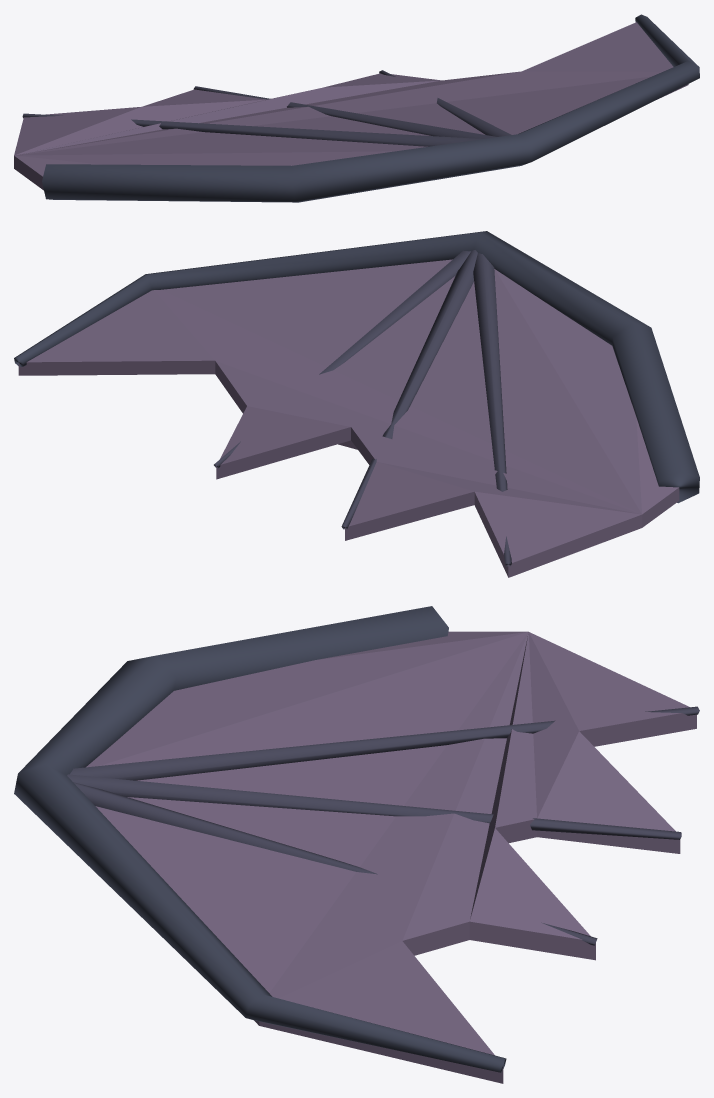
The model's file is bat_wing.glb.
3 renders of one model, top to bottom at view 1: azimuth 30°, elevation 25°; view 2: azimuth 150°, elevation 25°; view 3: azimuth 270°, elevation 25°, orthographic. The views are drawn at different scales.
Parts seen in each view (by area): view 1: bat_wing; view 2: bat_wing; view 3: bat_wing.
Part boxes in pixels (box(x1,y1,x2,y2)): bat_wing: box(14, 14, 699, 202); bat_wing: box(14, 231, 699, 577); bat_wing: box(14, 606, 699, 1083).
Bounding box in the file's own units: 0.12 × 0.02 × 0.08.
